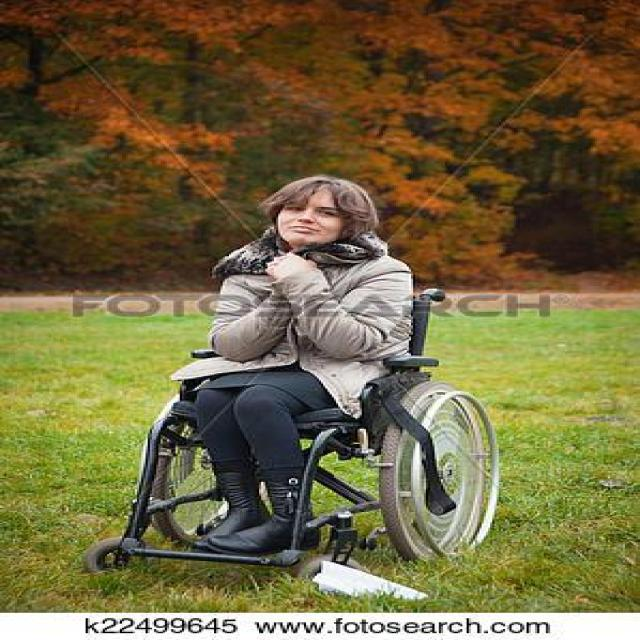wheelchairs: (69, 268, 538, 594)
